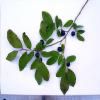Blueberry leaf: (36, 61, 52, 89), (6, 28, 23, 49), (42, 49, 61, 67), (41, 9, 54, 27), (37, 20, 48, 40), (19, 51, 29, 72), (22, 31, 33, 49), (46, 20, 55, 41), (5, 49, 19, 62), (29, 56, 41, 71), (55, 64, 66, 78), (76, 30, 87, 44), (64, 53, 77, 64), (26, 50, 36, 64), (63, 19, 74, 28), (55, 14, 61, 29), (57, 30, 61, 39)
